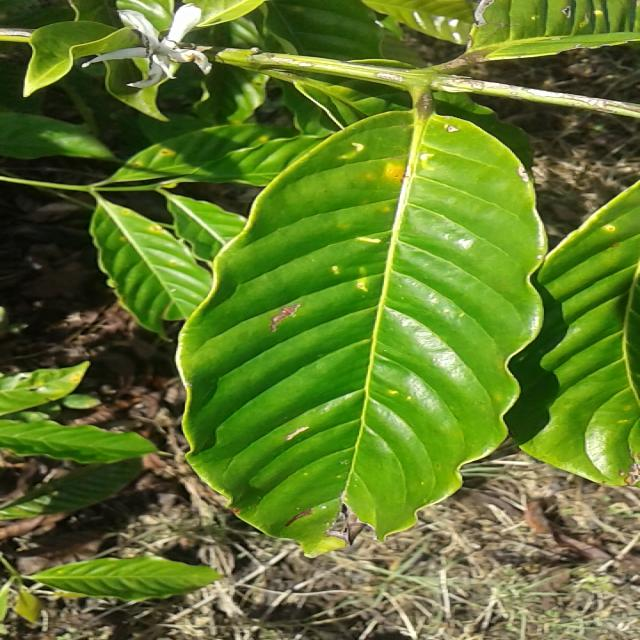Enfermedad-Roya: (175, 109, 548, 558)
